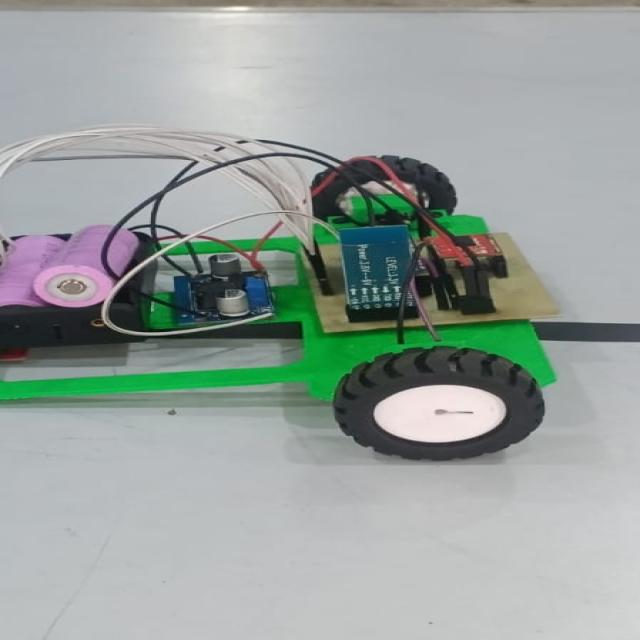vehicle: (0, 126, 562, 452)
